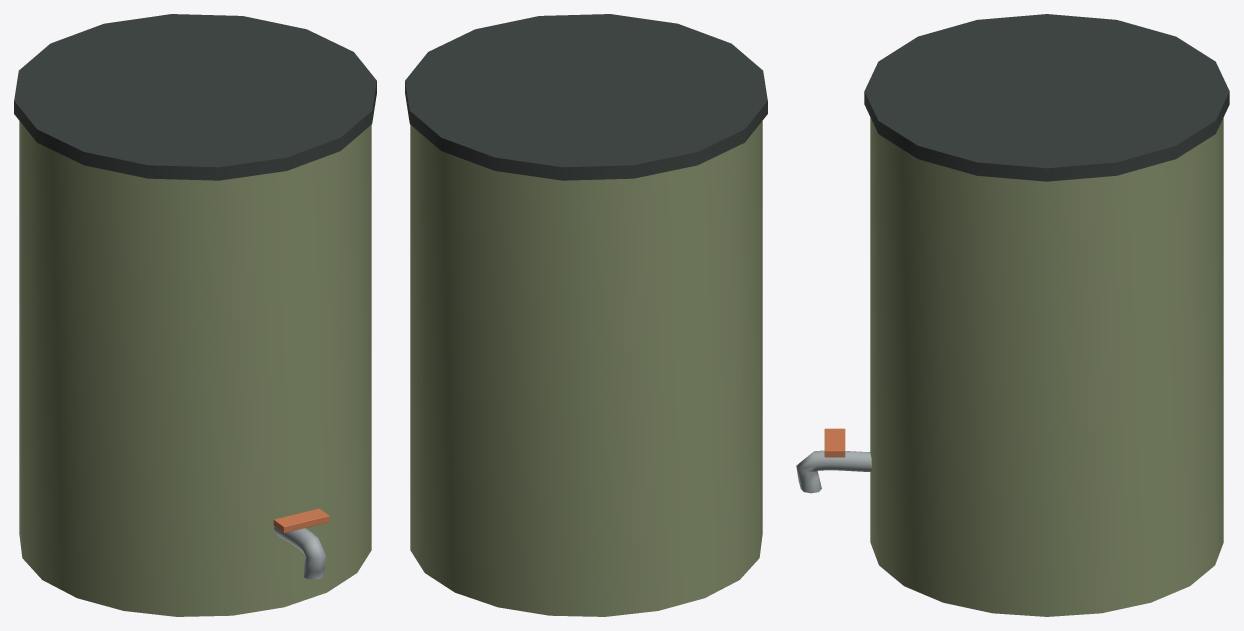
The model's file is water-collection-and-purification-rain-barrel-39f2a86f__20181.glb.
3 renders of one model, left to right at view 1: azimuth 30°, elevation 25°; view 2: azimuth 150°, elevation 25°; view 3: azimuth 270°, elevation 25°, orthographic.
Visible parts, largest first — view 1: rain-barrel; view 2: rain-barrel; view 3: rain-barrel.
Boxes of the visible parts, x1,y1,x2,y2 form: rain-barrel: [14, 14, 376, 616]; rain-barrel: [405, 14, 767, 616]; rain-barrel: [796, 14, 1229, 616].
Bounding box in the file's own units: 0.62 × 0.845 × 0.7356.
